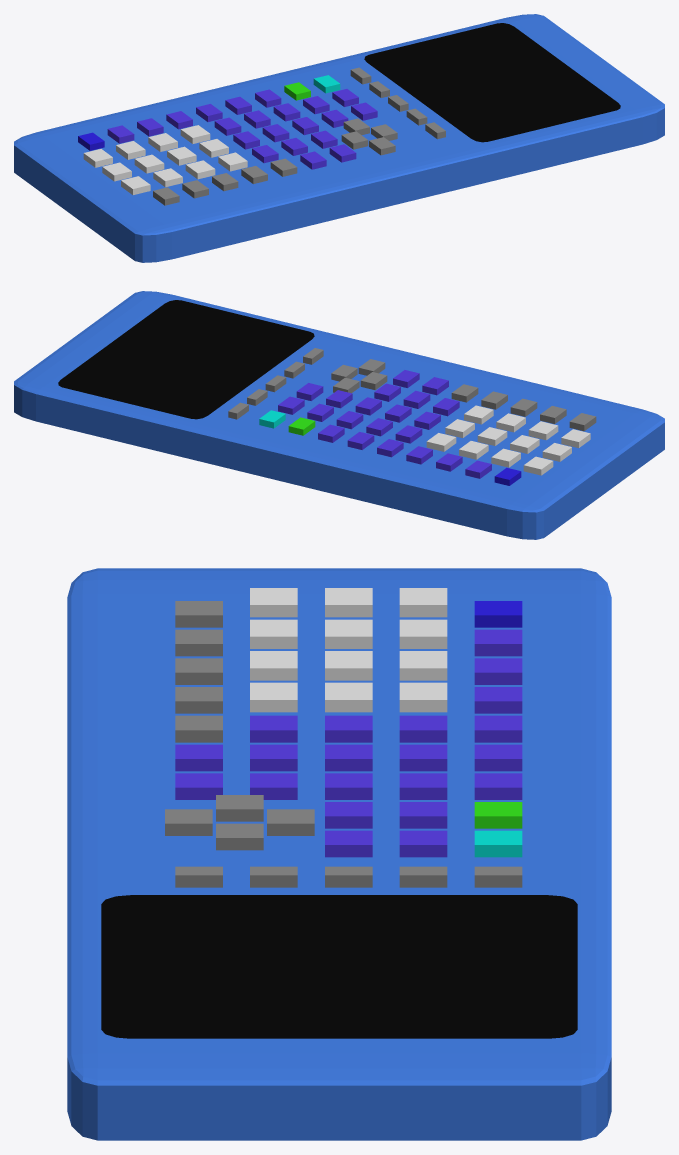
File: calc.glb
3 views of the same model, one above another, from view 1: azimuth 30°, elevation 25°; view 2: azimuth 150°, elevation 25°; view 3: azimuth 270°, elevation 25° (orthographic). The views are drawn at different scales.
Parts seen in each view (by area): view 1: Cube.032, Plane, Cube.004, Cube.007, Cube.014, Cube.003, Cube.009, Cube.010, Cube.012, Cube.006, Cube.001, Cube.002 (+2 smaller); view 2: Cube.032, Plane, Cube.006, Cube.002, Cube.009, Cube.014, Cube.010, Cube.001, Cube.003, Cube.005, Cube.007, Cube.012 (+2 smaller); view 3: Cube.032, Plane, Cube.014, Cube.010, Cube.012, Cube.008, Cube.002, Cube.005, Cube.001, Cube.003, Cube.004, Cube.006 (+40 smaller).
Part boxes in pixels (left/top/right/bottom): Cube.032: left=14, top=14, right=664, bottom=262; Plane: left=364, top=23, right=620, bottom=142; Cube.004: left=134, top=154, right=164, bottom=173; Cube.007: left=185, top=160, right=215, bottom=179; Cube.014: left=180, top=125, right=210, bottom=143; Cube.003: left=102, top=162, right=131, bottom=181; Cube.009: left=167, top=146, right=196, bottom=165; Cube.010: left=199, top=139, right=228, bottom=157; Cube.012: left=218, top=152, right=247, bottom=171; Cube.006: left=153, top=168, right=182, bottom=187; Cube.001: left=121, top=176, right=150, bottom=194; Cube.002: left=83, top=149, right=112, bottom=167; Cube.032: left=14, top=291, right=664, bottom=539; Plane: left=58, top=300, right=314, bottom=419; Cube.006: left=528, top=421, right=558, bottom=440; Cube.002: left=523, top=456, right=553, bottom=475; Cube.009: left=477, top=427, right=507, bottom=445; Cube.014: left=426, top=433, right=456, bottom=451; Cube.010: left=445, top=419, right=474, bottom=437; Cube.001: left=561, top=429, right=590, bottom=448; Cube.003: left=542, top=443, right=571, bottom=461; Cube.005: left=491, top=448, right=520, bottom=467; Cube.007: left=496, top=413, right=525, bottom=432; Cube.012: left=464, top=405, right=493, bottom=424; Cube.032: left=67, top=568, right=611, bottom=1140; Plane: left=101, top=895, right=577, bottom=1038; Cube.014: left=399, top=682, right=447, bottom=712; Cube.010: left=325, top=682, right=372, bottom=712; Cube.012: left=250, top=682, right=297, bottom=712; Cube.008: left=399, top=651, right=447, bottom=680; Cube.002: left=399, top=588, right=447, bottom=617; Cube.005: left=399, top=619, right=447, bottom=648; Cube.001: left=250, top=588, right=297, bottom=617; Cube.003: left=325, top=588, right=372, bottom=617; Cube.004: left=325, top=619, right=372, bottom=648; Cube.006: left=250, top=619, right=297, bottom=648.
Size of the model in its own units: 0.18 by 0.012 by 0.08.
